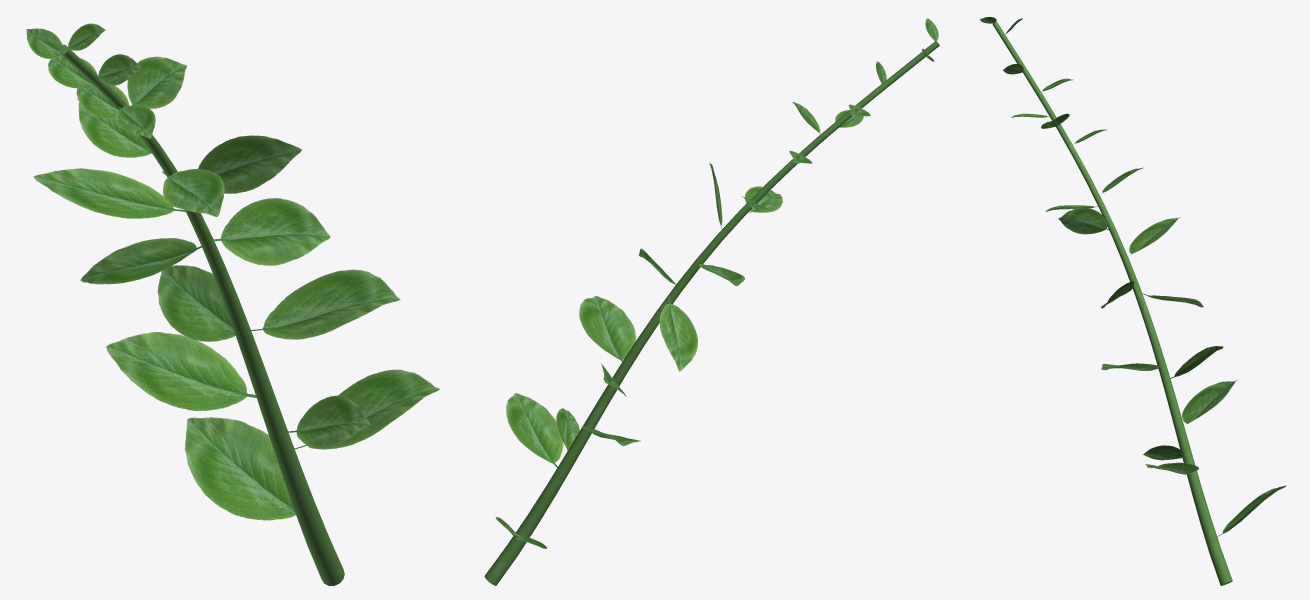
File: StaticMeshDePlante.FBX
The picture shows the model from 3 angles, left to right: view 1: azimuth 30°, elevation 25°; view 2: azimuth 150°, elevation 25°; view 3: azimuth 270°, elevation 25°; orthographic projection. The views are drawn at different scales.
Visible parts, largest first — view 1: StaticMeshDePlante; view 2: StaticMeshDePlante; view 3: StaticMeshDePlante.
Boxes of the visible parts, x1=… form: StaticMeshDePlante: x1=26, y1=23, x2=440, y2=585; StaticMeshDePlante: x1=484, y1=18, x2=939, y2=585; StaticMeshDePlante: x1=980, y1=16, x2=1286, y2=585.
Size of the model in its own units: 59.01 by 53.67 by 83.18.
